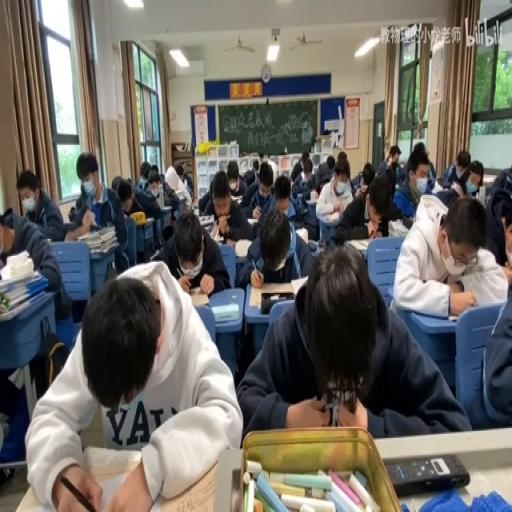calculator: (154, 458, 218, 512), (0, 250, 50, 318), (458, 270, 482, 296), (210, 300, 238, 322), (290, 274, 310, 296), (386, 218, 409, 236), (187, 290, 210, 307), (234, 236, 252, 256), (346, 238, 370, 252), (294, 224, 308, 242), (200, 218, 215, 234), (322, 209, 340, 222), (430, 180, 445, 194), (62, 219, 76, 233), (304, 196, 317, 206), (482, 174, 495, 184), (246, 214, 258, 224), (230, 194, 242, 204), (159, 203, 172, 212), (144, 216, 154, 223), (45, 236, 51, 243)
paper: (25, 260, 237, 509), (238, 243, 466, 440), (462, 258, 510, 428), (236, 203, 313, 300), (68, 151, 129, 267), (153, 208, 228, 297), (337, 171, 403, 243), (14, 168, 64, 243), (391, 144, 433, 220), (483, 164, 512, 264), (131, 165, 170, 233), (198, 160, 238, 214), (243, 164, 275, 223), (438, 148, 472, 190), (313, 152, 334, 194), (290, 152, 306, 184), (163, 180, 180, 208), (384, 164, 398, 192), (182, 170, 194, 200), (468, 164, 483, 188), (72, 188, 86, 213), (361, 164, 374, 189), (411, 140, 427, 160), (0, 204, 13, 228), (348, 171, 362, 192), (387, 145, 400, 165), (110, 174, 121, 192), (335, 151, 348, 166), (118, 193, 130, 209), (140, 159, 150, 178), (174, 164, 184, 179), (428, 161, 435, 182), (66, 206, 76, 220), (304, 165, 311, 179), (252, 158, 259, 171), (159, 174, 166, 186)
person: (386, 452, 470, 494), (260, 292, 294, 314), (308, 239, 318, 252)
